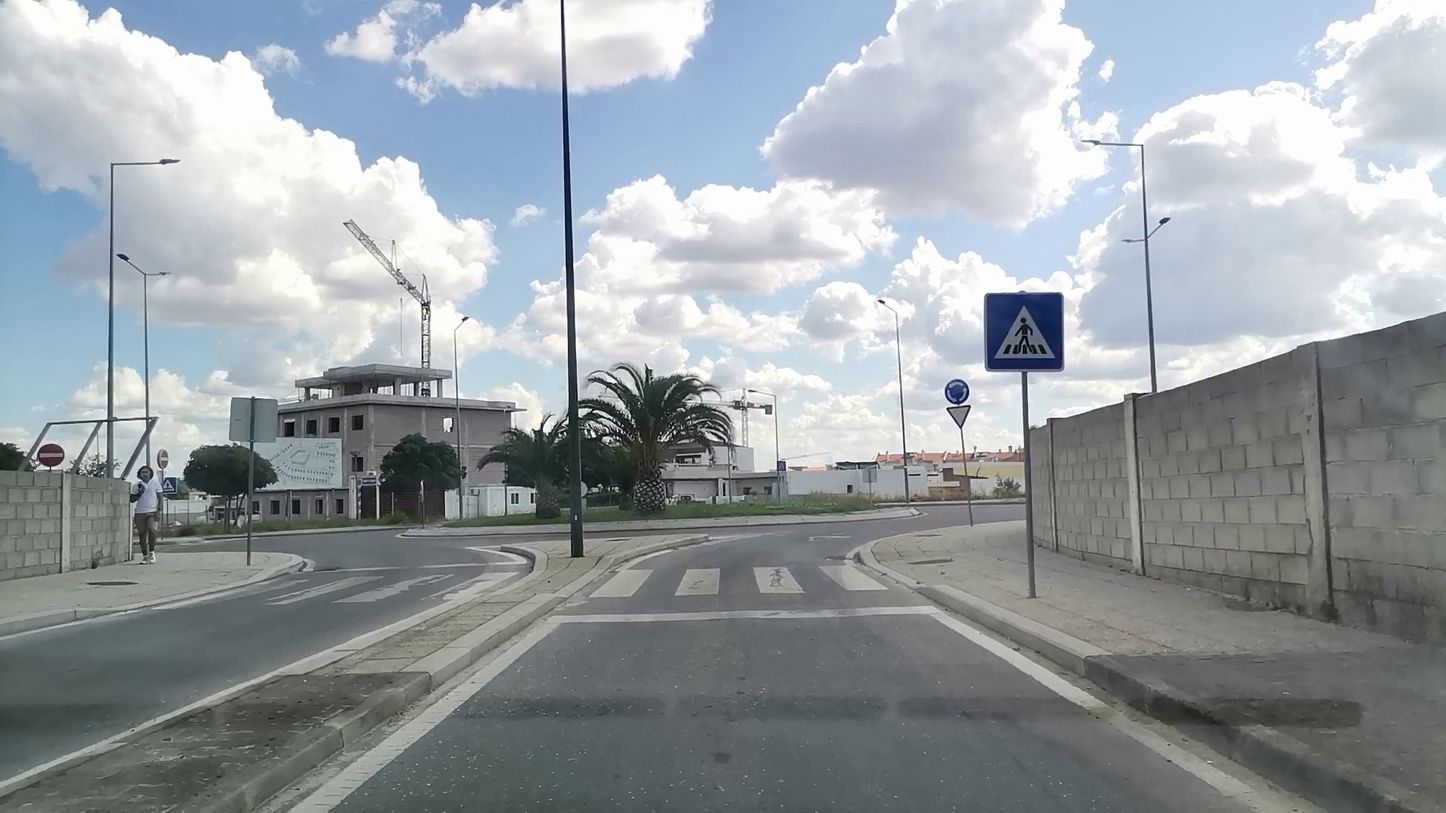Stairs: (144, 561, 896, 612)
